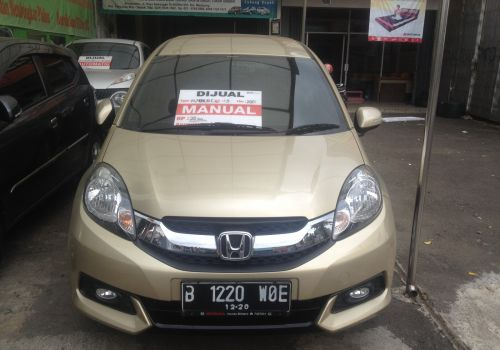plate: (181, 280, 291, 314)
